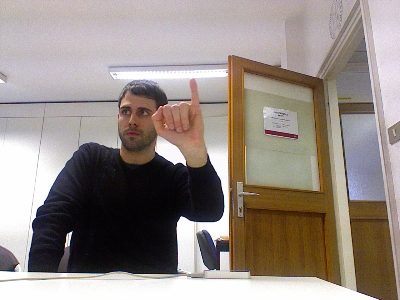小指: (149, 76, 205, 146)
